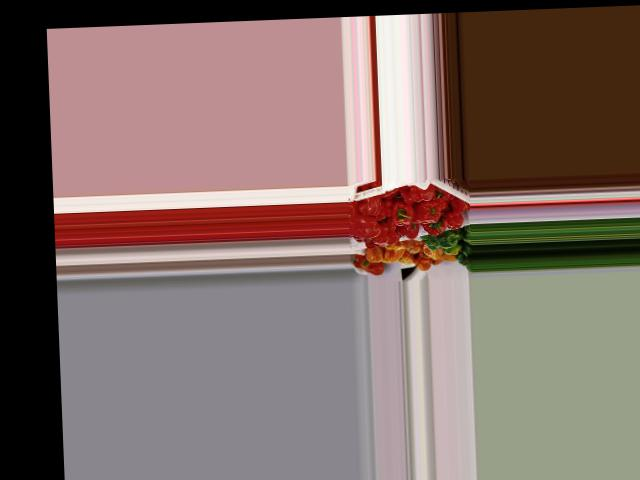bell_pepper: (399, 182, 435, 203)
